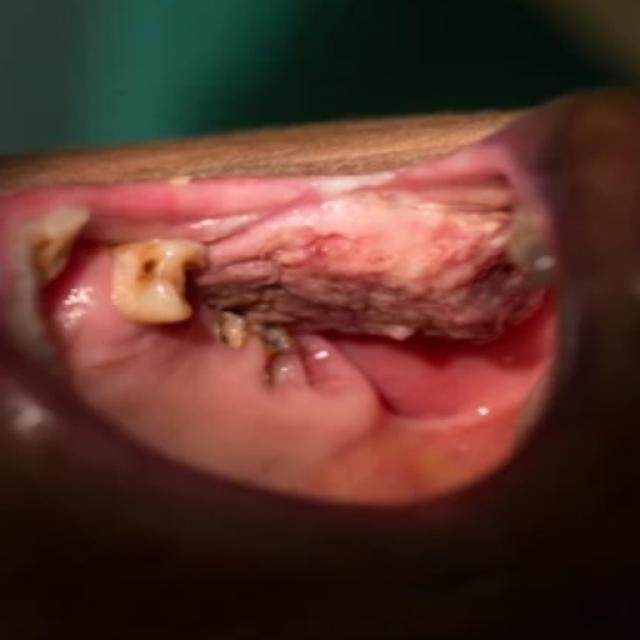cancer-detection: (189, 190, 548, 396)
processing_area: (66, 148, 561, 502)
